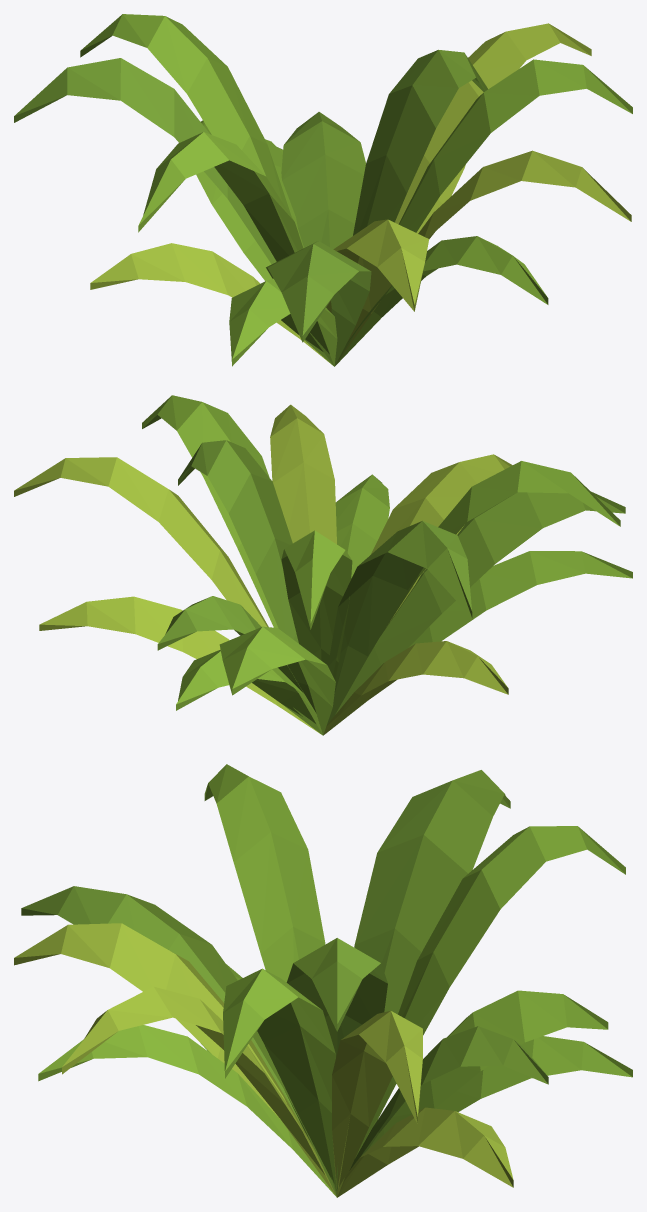
Rendered from Rosette.glb.
The picture shows the model from 3 angles, top to bottom: view 1: azimuth 30°, elevation 25°; view 2: azimuth 150°, elevation 25°; view 3: azimuth 270°, elevation 25°; orthographic projection. The views are drawn at different scales.
Parts seen in each view (by area): view 1: Rosette; view 2: Rosette; view 3: Rosette.
Part boxes in pixels (x1,y1,x2,y2): Rosette: (14, 14, 632, 366); Rosette: (14, 395, 632, 735); Rosette: (14, 764, 632, 1197).
Size of the model in its own units: 0.9981 by 0.5338 by 0.8985.
